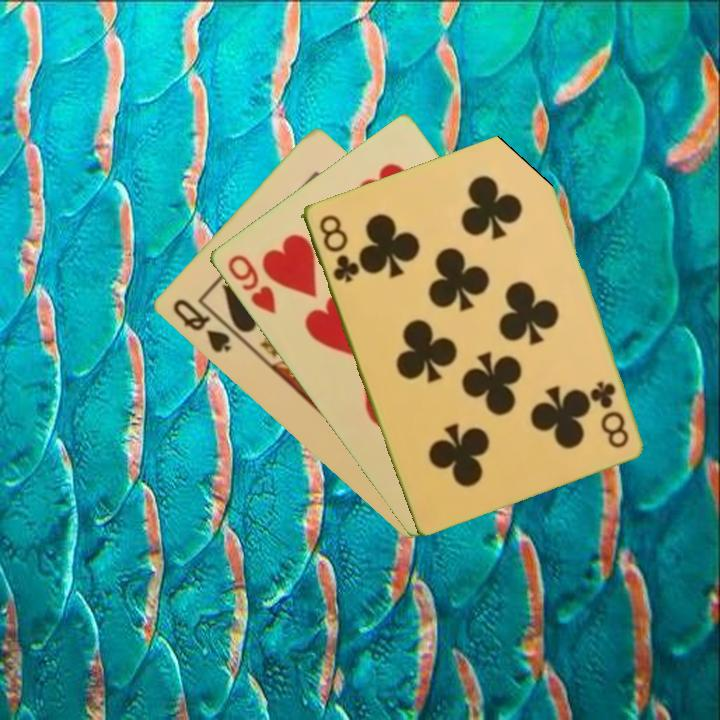8c: (315, 211, 361, 286), (587, 377, 632, 451)
9h: (223, 251, 279, 317)
Qs: (168, 295, 234, 356)
